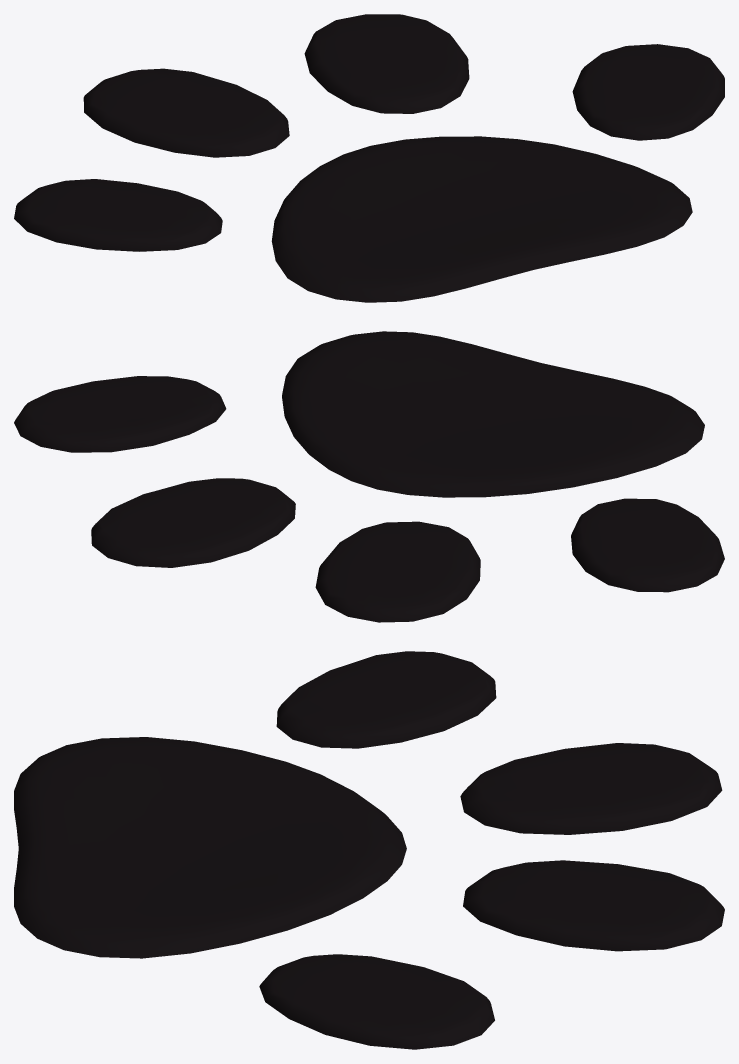
File: jiaoyin.fbx
3 renders of one model, top to bottom at view 1: azimuth 30°, elevation 25°; view 2: azimuth 150°, elevation 25°; view 3: azimuth 270°, elevation 25°, orthographic. The views are drawn at different scales.
Parts seen in each view (by area): view 1: jiaoyin; view 2: jiaoyin; view 3: jiaoyin.
Boxes of the visible parts, bbox=[...] form: jiaoyin: bbox=[14, 14, 724, 302]; jiaoyin: bbox=[14, 331, 724, 622]; jiaoyin: bbox=[14, 651, 724, 1049].
Size of the model in its own units: 14.69 by 0.2674 by 11.28.
1 material, 1 textured.
